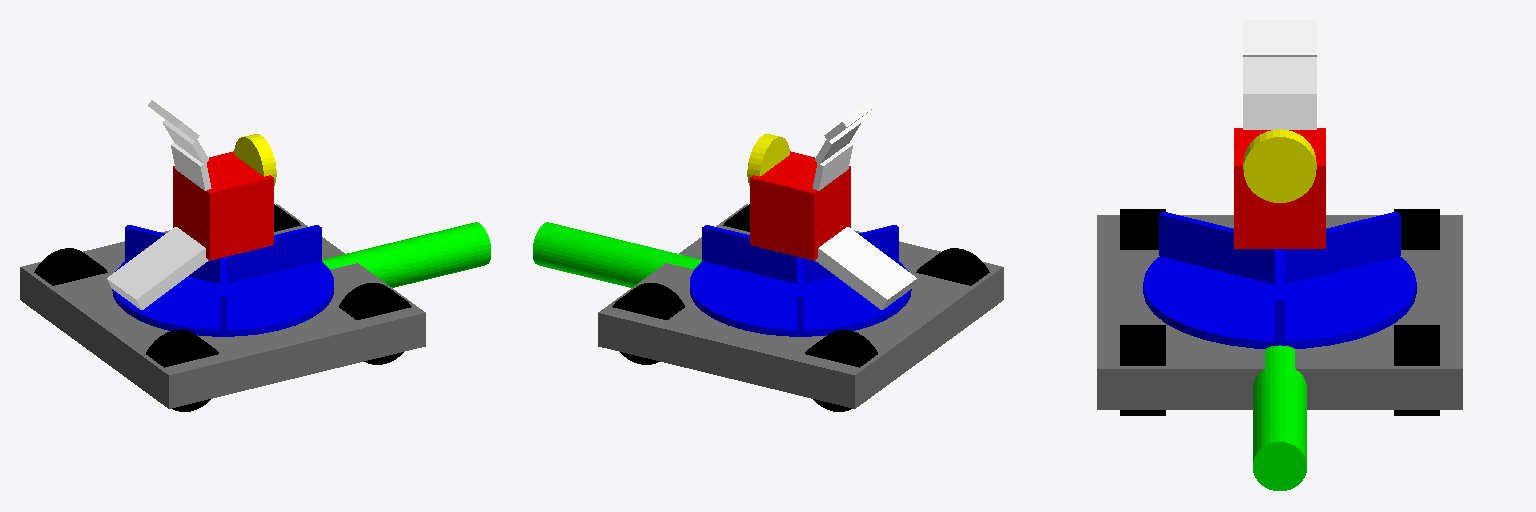
robot.urdf — decode_robot:
<?xml version="1.0"?>
<robot name="decode_robot">
  <!-- Materials -->
  <material name="gray"><color rgba="0.5 0.5 0.5 1"/></material>
  <material name="black"><color rgba="0 0 0 1"/></material>
  <material name="green"><color rgba="0 1 0 1"/></material>
  <material name="blue"><color rgba="0 0 1 1"/></material>
  <material name="red"><color rgba="1 0 0 1"/></material>
  <material name="yellow"><color rgba="1 1 0 1"/></material>
  <material name="white"><color rgba="1 1 1 1"/></material>

  <!-- Base Link -->
  <link name="base_link">
    <visual>
      <geometry><box size="0.4 0.4 0.05"/></geometry>
      <material name="gray"/>
    </visual>
    <collision>
      <geometry><box size="0.4 0.4 0.05"/></geometry>
    </collision>
    <inertial>
      <mass value="10.0"/>
      <inertia ixx="0.1" ixy="0" ixz="0" iyy="0.1" iyz="0" izz="0.1"/>
    </inertial>
  </link>

  <!-- Wheels (Standard Cylinders for now) -->
  <link name="fl_wheel">
    <visual>
      <geometry><cylinder length="0.05" radius="0.05"/></geometry>
      <material name="black"/>
    </visual>
    <collision>
      <geometry><cylinder length="0.05" radius="0.05"/></geometry>
      <!-- Friction properties would be set in a separate tag in SDF/Drake custom tags, using standard here -->
    </collision>
    <inertial>
      <mass value="0.5"/>
      <inertia ixx="0.001" ixy="0" ixz="0" iyy="0.001" iyz="0" izz="0.001"/>
    </inertial>
  </link>
  <joint name="fl_wheel_joint" type="continuous">
    <parent link="base_link"/>
    <child link="fl_wheel"/>
    <origin xyz="0.15 0.15 0" rpy="-1.5708 0 0"/>
    <axis xyz="0 0 1"/>
  </joint>

  <link name="fr_wheel">
    <visual>
      <geometry><cylinder length="0.05" radius="0.05"/></geometry>
      <material name="black"/>
    </visual>
    <collision>
      <geometry><cylinder length="0.05" radius="0.05"/></geometry>
    </collision>
    <inertial>
      <mass value="0.5"/>
      <inertia ixx="0.001" ixy="0" ixz="0" iyy="0.001" iyz="0" izz="0.001"/>
    </inertial>
  </link>
  <joint name="fr_wheel_joint" type="continuous">
    <parent link="base_link"/>
    <child link="fr_wheel"/>
    <origin xyz="0.15 -0.15 0" rpy="-1.5708 0 0"/>
    <axis xyz="0 0 1"/>
  </joint>

  <link name="bl_wheel">
    <visual>
      <geometry><cylinder length="0.05" radius="0.05"/></geometry>
      <material name="black"/>
    </visual>
    <collision>
      <geometry><cylinder length="0.05" radius="0.05"/></geometry>
    </collision>
    <inertial>
      <mass value="0.5"/>
      <inertia ixx="0.001" ixy="0" ixz="0" iyy="0.001" iyz="0" izz="0.001"/>
    </inertial>
  </link>
  <joint name="bl_wheel_joint" type="continuous">
    <parent link="base_link"/>
    <child link="bl_wheel"/>
    <origin xyz="-0.15 0.15 0" rpy="-1.5708 0 0"/>
    <axis xyz="0 0 1"/>
  </joint>

  <link name="br_wheel">
    <visual>
      <geometry><cylinder length="0.05" radius="0.05"/></geometry>
      <material name="black"/>
    </visual>
    <collision>
      <geometry><cylinder length="0.05" radius="0.05"/></geometry>
    </collision>
    <inertial>
      <mass value="0.5"/>
      <inertia ixx="0.001" ixy="0" ixz="0" iyy="0.001" iyz="0" izz="0.001"/>
    </inertial>
  </link>
  <joint name="br_wheel_joint" type="continuous">
    <parent link="base_link"/>
    <child link="br_wheel"/>
    <origin xyz="-0.15 -0.15 0" rpy="-1.5708 0 0"/>
    <axis xyz="0 0 1"/>
  </joint>

  <!-- Intake Roller -->
  <link name="intake_link">
    <visual>
      <geometry><cylinder length="0.3" radius="0.03"/></geometry>
      <material name="green"/>
    </visual>
    <collision>
      <geometry><cylinder length="0.3" radius="0.03"/></geometry>
    </collision>
    <inertial>
      <mass value="0.2"/>
      <inertia ixx="0.001" ixy="0" ixz="0" iyy="0.001" iyz="0" izz="0.001"/>
    </inertial>
  </link>
  <joint name="intake_joint" type="continuous">
    <parent link="base_link"/>
    <child link="intake_link"/>
    <origin xyz="0.25 0 0" rpy="0 1.5708 0"/>
    <axis xyz="0 0 1"/>
  </joint>

  <!-- Spindexer (Rotating platform with dividers) -->
  <link name="spindexer_base_link">
    <visual>
      <geometry><cylinder length="0.01" radius="0.15"/></geometry>
      <material name="blue"/>
    </visual>
    <collision>
      <geometry><cylinder length="0.01" radius="0.15"/></geometry>
    </collision>
    <inertial>
      <mass value="0.5"/>
      <inertia ixx="0.005" ixy="0" ixz="0" iyy="0.005" iyz="0" izz="0.01"/>
    </inertial>
  </link>
  <joint name="spindexer_joint" type="continuous">
    <parent link="base_link"/>
    <child link="spindexer_base_link"/>
    <origin xyz="0 0 0.03" rpy="0 0 0"/>
    <axis xyz="0 0 1"/>
  </joint>
  
  <!-- Spindexer Dividers (Fixed to base link) -->
  <!-- Divider 1 -->
  <link name="div1">
    <collision><geometry><box size="0.15 0.01 0.05"/></geometry></collision>
    <visual><geometry><box size="0.15 0.01 0.05"/></geometry><material name="blue"/></visual>
    <inertial><mass value="0.1"/><inertia ixx="0.0001" ixy="0" ixz="0" iyy="0.0001" iyz="0" izz="0.0001"/></inertial>
  </link>
  <joint name="div1_joint" type="fixed">
    <parent link="spindexer_base_link"/>
    <child link="div1"/>
    <origin xyz="0.075 0 0.03" rpy="0 0 0"/>
  </joint>
  
  <!-- Divider 2 -->
  <link name="div2">
    <collision><geometry><box size="0.15 0.01 0.05"/></geometry></collision>
    <visual><geometry><box size="0.15 0.01 0.05"/></geometry><material name="blue"/></visual>
    <inertial><mass value="0.1"/><inertia ixx="0.0001" ixy="0" ixz="0" iyy="0.0001" iyz="0" izz="0.0001"/></inertial>
  </link>
  <joint name="div2_joint" type="fixed">
    <parent link="spindexer_base_link"/>
    <child link="div2"/>
    <origin xyz="-0.0375 0.065 0.03" rpy="0 0 2.0944"/>
  </joint>

  <!-- Divider 3 -->
  <link name="div3">
    <collision><geometry><box size="0.15 0.01 0.05"/></geometry></collision>
    <visual><geometry><box size="0.15 0.01 0.05"/></geometry><material name="blue"/></visual>
    <inertial><mass value="0.1"/><inertia ixx="0.0001" ixy="0" ixz="0" iyy="0.0001" iyz="0" izz="0.0001"/></inertial>
  </link>
  <joint name="div3_joint" type="fixed">
    <parent link="spindexer_base_link"/>
    <child link="div3"/>
    <origin xyz="-0.0375 -0.065 0.03" rpy="0 0 -2.0944"/>
  </joint>


  <!-- Turret -->
  <!-- Connected to base_link (or spindexer? usually turret is separate, inside or above spindexer. Description says "Back of spindexer has transfer into turret". Implies turret is separate mechanism.) -->
  <!-- Let's put Turret on base_link, effectively passing through spindexer center or above it. -->
  <link name="turret_link">
    <visual>
      <geometry><box size="0.1 0.1 0.1"/></geometry>
      <material name="red"/>
    </visual>
    <collision>
      <geometry><box size="0.1 0.1 0.1"/></geometry>
    </collision>
    <inertial>
      <mass value="1.0"/>
      <inertia ixx="0.01" ixy="0" ixz="0" iyy="0.01" iyz="0" izz="0.01"/>
    </inertial>
  </link>
  <joint name="turret_joint" type="revolute">
    <parent link="base_link"/>
    <child link="turret_link"/>
    <origin xyz="0 0 0.15" rpy="0 0 0"/>
    <axis xyz="0 0 1"/>
    <limit lower="-1.5708" upper="1.5708" effort="20" velocity="10"/>
  </joint>

  <!-- Flywheel -->
  <link name="flywheel_link">
    <visual>
      <geometry><cylinder length="0.02" radius="0.04"/></geometry>
      <material name="yellow"/>
    </visual>
    <collision>
      <geometry><cylinder length="0.02" radius="0.04"/></geometry>
    </collision>
    <inertial>
      <mass value="0.5"/>
      <inertia ixx="0.0005" ixy="0" ixz="0" iyy="0.0005" iyz="0" izz="0.0005"/>
    </inertial>
  </link>
  <joint name="flywheel_joint" type="continuous">
    <parent link="turret_link"/>
    <child link="flywheel_link"/>
    <origin xyz="0.05 0 0.05" rpy="0 1.5708 0"/>
    <axis xyz="0 0 1"/>
  </joint>

  <!-- Adjustable Hood -->
  <!-- The hood needs to form an arc against the flywheel. -->
  <!-- We'll attach a 'hood_base' to the turret, and the hood_link moves relative to it. -->
  <!-- Hood is represented by 3 segments to approximate curve. -->
  
  <link name="hood_pivot">
     <inertial><mass value="0.01"/><inertia ixx="0" ixy="0" ixz="0" iyy="0" iyz="0" izz="0"/></inertial>
  </link>
  <joint name="hood_joint" type="revolute">
    <parent link="turret_link"/>
    <child link="hood_pivot"/>
    <origin xyz="-0.05 0 0.05" rpy="0 0 0"/>
    <axis xyz="0 1 0"/>
    <limit lower="0" upper="1.2" effort="5" velocity="5"/>
  </joint>

  <!-- Segment 1 -->
  <link name="hood_seg1">
     <visual><geometry><box size="0.01 0.08 0.04"/></geometry><material name="white"/></visual>
     <collision><geometry><box size="0.01 0.08 0.04"/></geometry></collision>
     <inertial><mass value="0.05"/><inertia ixx="0.0001" ixy="0" ixz="0" iyy="0.0001" iyz="0" izz="0.0001"/></inertial>
  </link>
  <joint name="h1" type="fixed">
      <parent link="hood_pivot"/>
      <child link="hood_seg1"/>
      <origin xyz="0 0 0.02" rpy="0 -0.2 0"/>
  </joint>
  
  <!-- Segment 2 -->
  <link name="hood_seg2">
     <visual><geometry><box size="0.01 0.08 0.04"/></geometry><material name="white"/></visual>
     <collision><geometry><box size="0.01 0.08 0.04"/></geometry></collision>
     <inertial><mass value="0.05"/><inertia ixx="0.0001" ixy="0" ixz="0" iyy="0.0001" iyz="0" izz="0.0001"/></inertial>
  </link>
  <joint name="h2" type="fixed">
      <parent link="hood_seg1"/>
      <child link="hood_seg2"/>
      <origin xyz="0 0 0.04" rpy="0 -0.3 0"/>
  </joint>

   <!-- Segment 3 -->
  <link name="hood_seg3">
     <visual><geometry><box size="0.01 0.08 0.04"/></geometry><material name="white"/></visual>
     <collision><geometry><box size="0.01 0.08 0.04"/></geometry></collision>
     <inertial><mass value="0.05"/><inertia ixx="0.0001" ixy="0" ixz="0" iyy="0.0001" iyz="0" izz="0.0001"/></inertial>
  </link>
  <joint name="h3" type="fixed">
      <parent link="hood_seg2"/>
      <child link="hood_seg3"/>
      <origin xyz="0 0 0.04" rpy="0 -0.3 0"/>
  </joint>

  <!-- Transfer Ramp (spindexer to turret feed) -->
  <link name="transfer_ramp">
    <visual>
      <geometry><box size="0.12 0.08 0.02"/></geometry>
      <material name="white"/>
    </visual>
    <collision>
      <geometry><box size="0.12 0.08 0.02"/></geometry>
    </collision>
    <inertial>
      <mass value="0.2"/>
      <inertia ixx="0.0002" ixy="0" ixz="0" iyy="0.0002" iyz="0" izz="0.0002"/>
    </inertial>
  </link>
  <joint name="transfer_ramp_joint" type="fixed">
    <parent link="base_link"/>
    <child link="transfer_ramp"/>
    <origin xyz="-0.10 0 0.08" rpy="0 -0.45 0"/>
  </joint>

</robot>

--- Render facts (derived) ---
The picture shows the robot from 3 angles, left to right: view 1: azimuth 30°, elevation 25°; view 2: azimuth 150°, elevation 25°; view 3: azimuth 270°, elevation 25°; orthographic projection.
Model decode_robot with 17 links and 16 joints (2 revolute, 7 continuous, 7 fixed), rooted at base_link, posed every joint at zero.
Visible links, largest first — view 1: base_link, spindexer_base_link, turret_link, intake_link, transfer_ramp, div1, br_wheel, fr_wheel, bl_wheel, div2, flywheel_link, hood_seg1 (+1 smaller); view 2: base_link, spindexer_base_link, turret_link, intake_link, transfer_ramp, div1, bl_wheel, fl_wheel, br_wheel, div3, flywheel_link, hood_seg1 (+1 smaller); view 3: base_link, spindexer_base_link, intake_link, turret_link, div2, div3, flywheel_link, hood_seg2, hood_seg3, hood_seg1, fl_wheel, fr_wheel (+3 smaller).
Boxes of the visible links, x1=… form: base_link: x1=20, y1=204, x2=425, y2=408; spindexer_base_link: x1=112, y1=261, x2=333, y2=336; turret_link: x1=173, y1=151, x2=273, y2=260; intake_link: x1=322, y1=222, x2=490, y2=287; transfer_ramp: x1=107, y1=227, x2=208, y2=309; div1: x1=227, y1=225, x2=321, y2=283; br_wheel: x1=146, y1=330, x2=218, y2=411; fr_wheel: x1=339, y1=283, x2=411, y2=364; bl_wheel: x1=34, y1=248, x2=107, y2=285; div2: x1=125, y1=225, x2=219, y2=283; flywheel_link: x1=234, y1=134, x2=276, y2=185; hood_seg1: x1=171, y1=143, x2=211, y2=190; base_link: x1=598, y1=204, x2=1003, y2=408; spindexer_base_link: x1=690, y1=261, x2=911, y2=336; turret_link: x1=750, y1=151, x2=850, y2=260; intake_link: x1=533, y1=222, x2=701, y2=287; transfer_ramp: x1=815, y1=227, x2=916, y2=309; div1: x1=702, y1=225, x2=796, y2=283; bl_wheel: x1=805, y1=330, x2=877, y2=411; fl_wheel: x1=612, y1=283, x2=684, y2=364; br_wheel: x1=916, y1=248, x2=989, y2=285; div3: x1=804, y1=225, x2=898, y2=283; flywheel_link: x1=747, y1=134, x2=789, y2=185; hood_seg1: x1=812, y1=143, x2=852, y2=190; base_link: x1=1097, y1=215, x2=1462, y2=409; spindexer_base_link: x1=1143, y1=257, x2=1416, y2=348; intake_link: x1=1253, y1=345, x2=1306, y2=490; turret_link: x1=1234, y1=128, x2=1325, y2=248; div2: x1=1285, y1=212, x2=1400, y2=283; div3: x1=1159, y1=212, x2=1274, y2=283; flywheel_link: x1=1243, y1=129, x2=1316, y2=202; hood_seg2: x1=1243, y1=57, x2=1316, y2=93; hood_seg3: x1=1243, y1=20, x2=1316, y2=56; hood_seg1: x1=1243, y1=94, x2=1316, y2=129; fl_wheel: x1=1394, y1=325, x2=1439, y2=415; fr_wheel: x1=1120, y1=325, x2=1165, y2=415.
Bounding box of the posed robot: 0.6 × 0.4 × 0.3618 m (x, y, z).
Geometry: primitives only (box / cylinder / sphere), no mesh files.